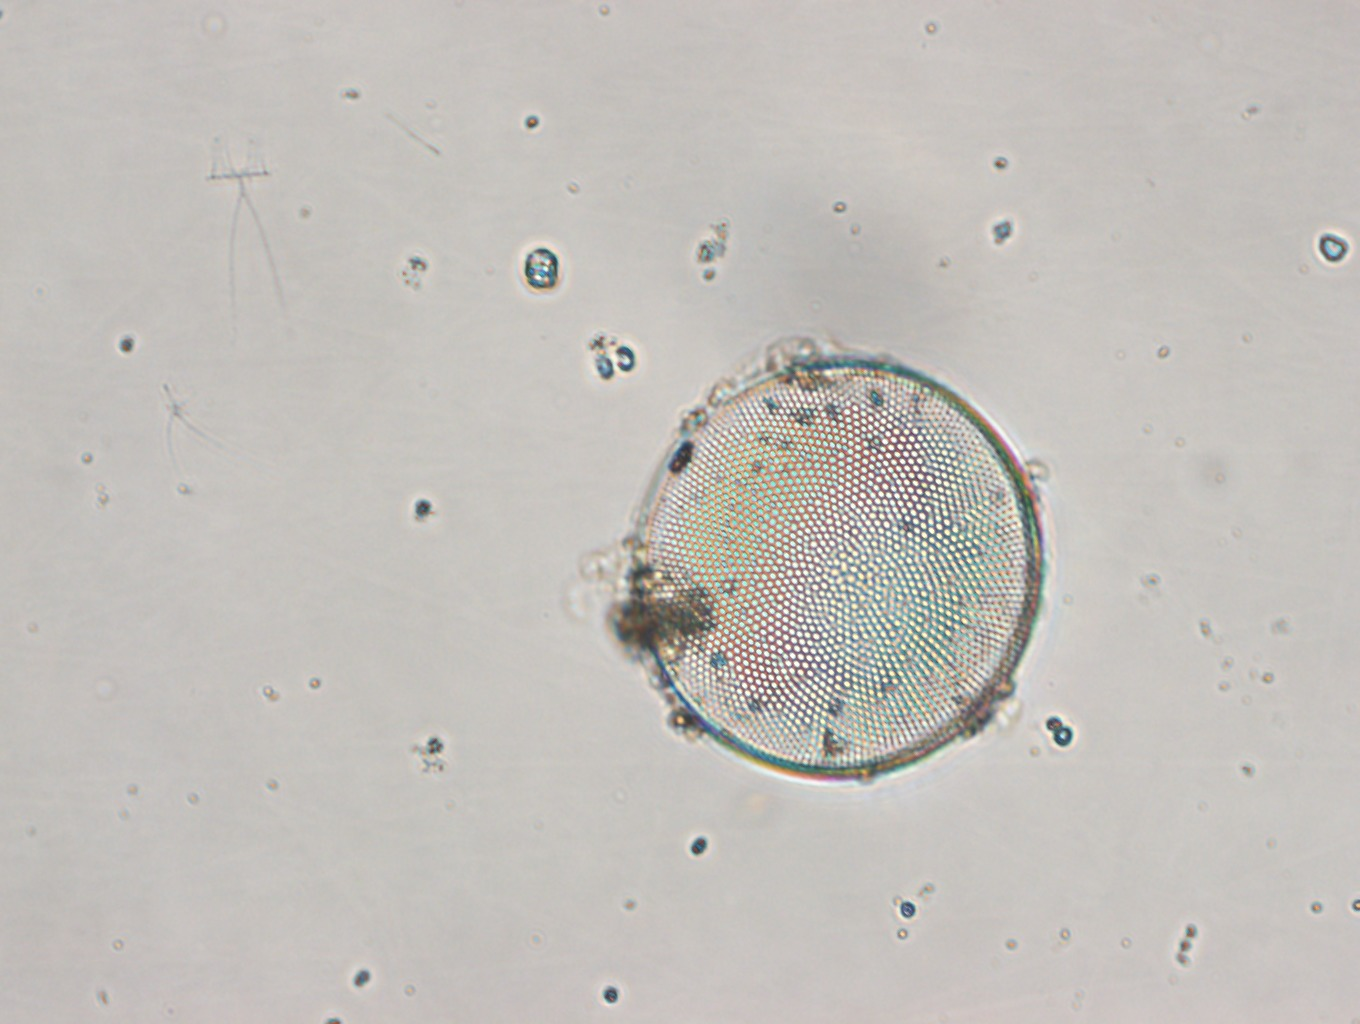chaetoceros: (200, 133, 296, 344)
coscinodiscus: (625, 345, 1050, 787)
